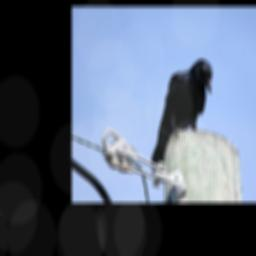Crow: (150, 59, 214, 170)
